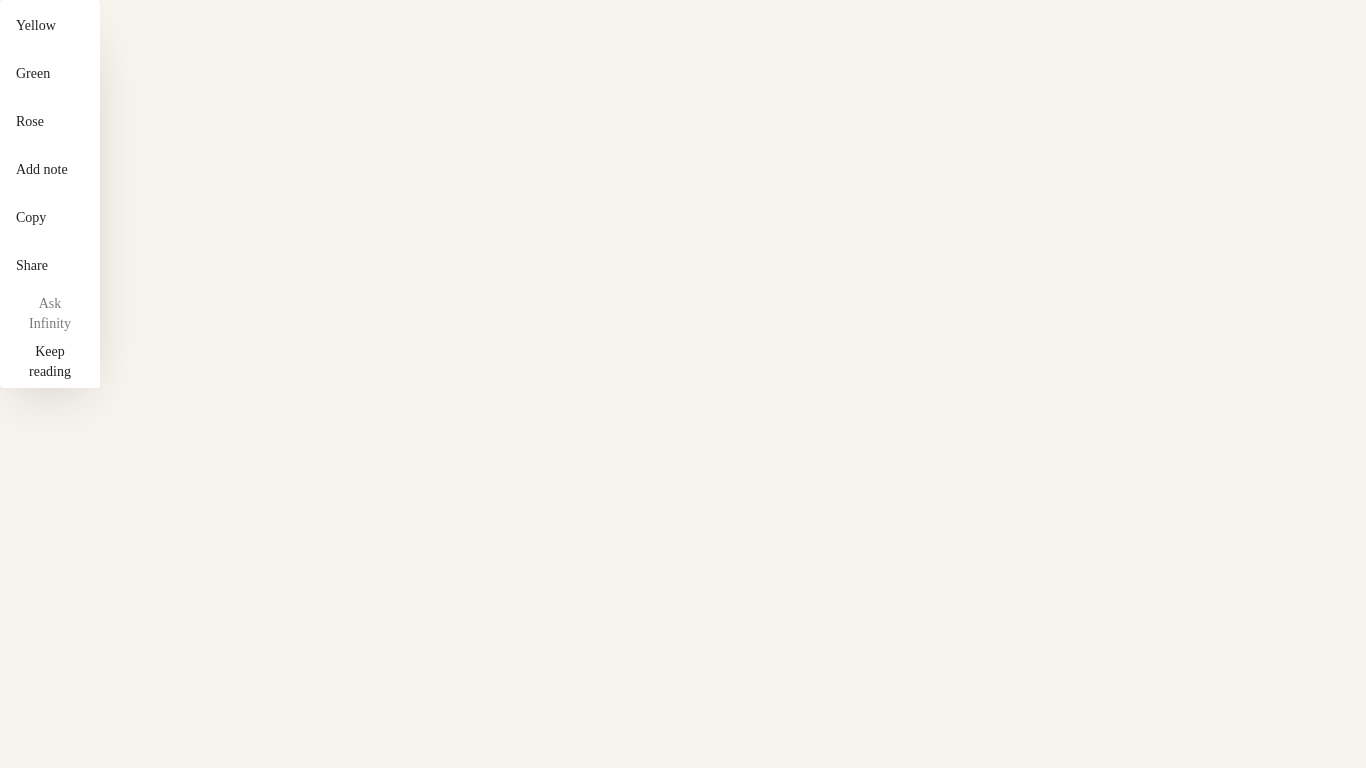
Test: ReaderSelectionToolbar › shares the card URL in place of the book URL when createShareUrl resolves
Click the button "Share" at x=32, y=266, box [4,244,60,288]
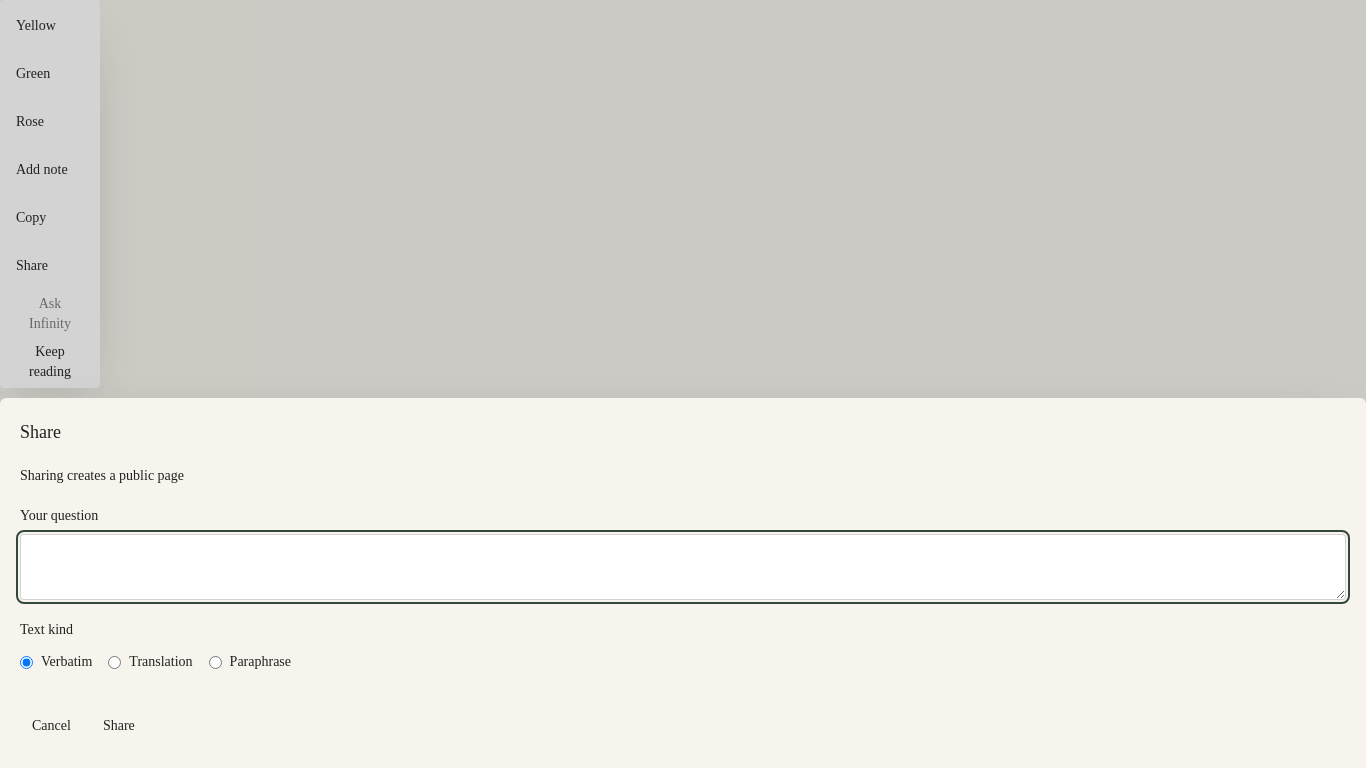
Click the button "Share" at x=119, y=726, box [91,704,147,748]
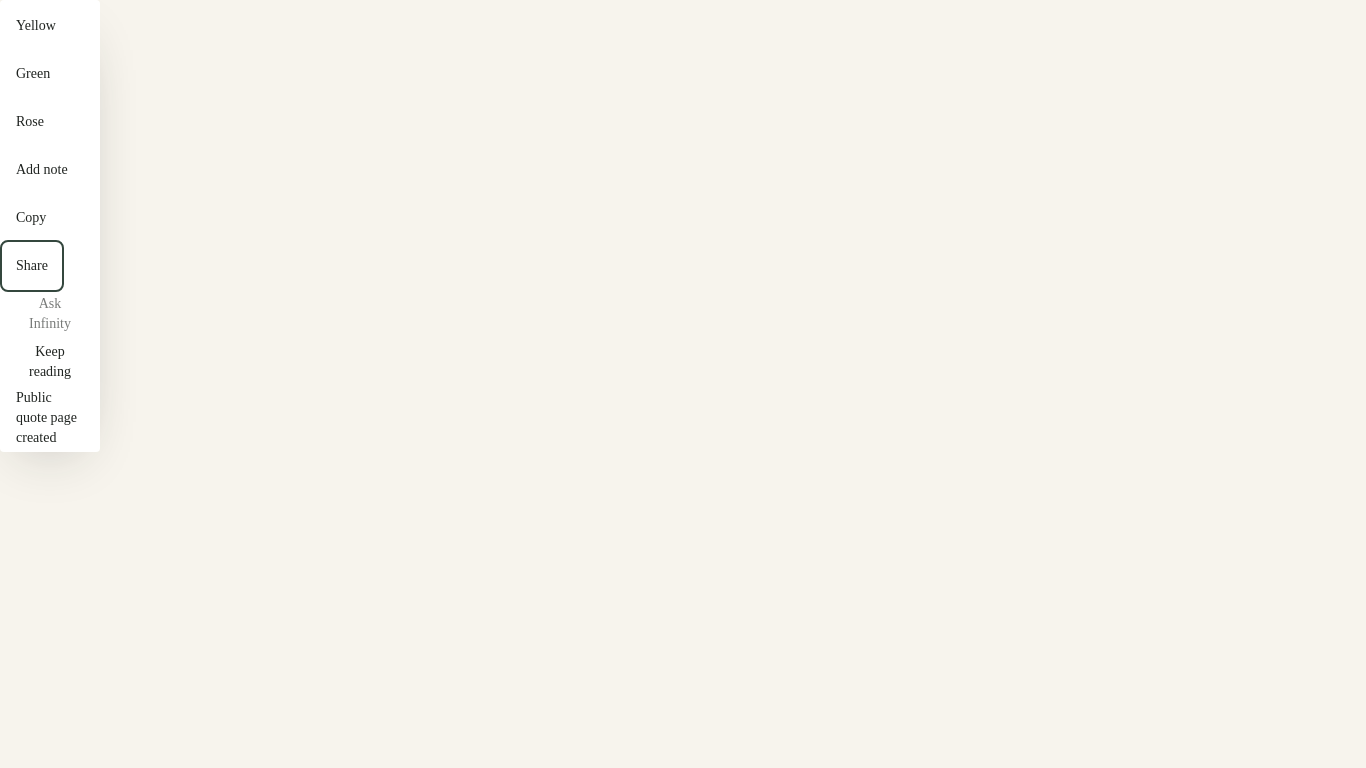
Result: the message reads "Public quote page created" at [16,390,77,445]
